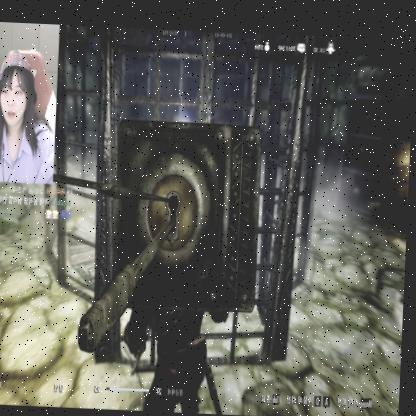streamer: (0, 49, 59, 183)
